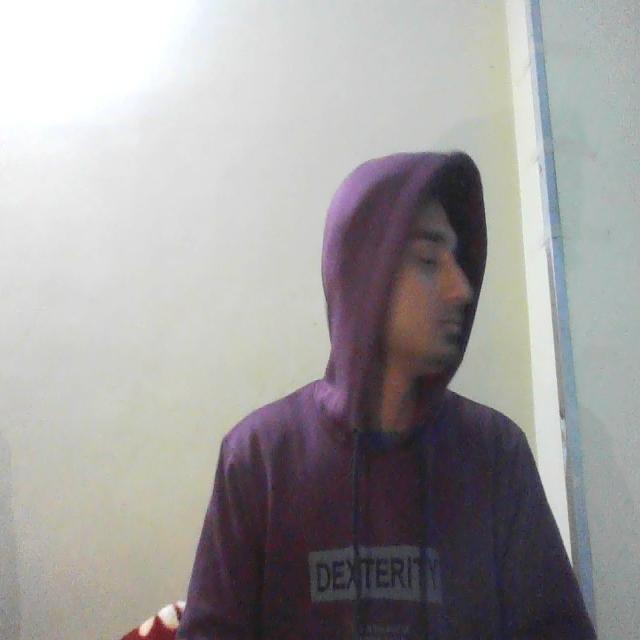real: (355, 135, 496, 401)
